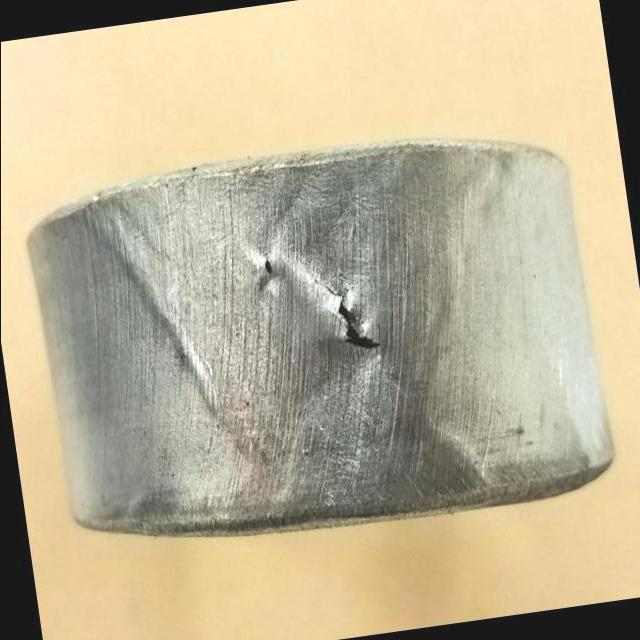defect: (311, 275, 383, 358)
